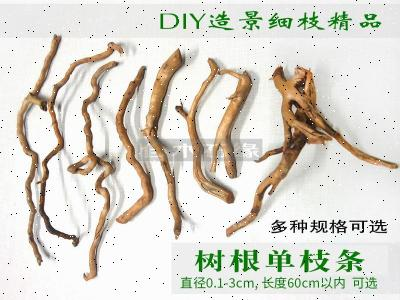Root: (0, 4, 400, 300), (226, 66, 398, 236), (17, 34, 123, 264), (176, 58, 252, 203), (68, 61, 118, 280), (141, 49, 182, 238), (116, 66, 153, 224)
